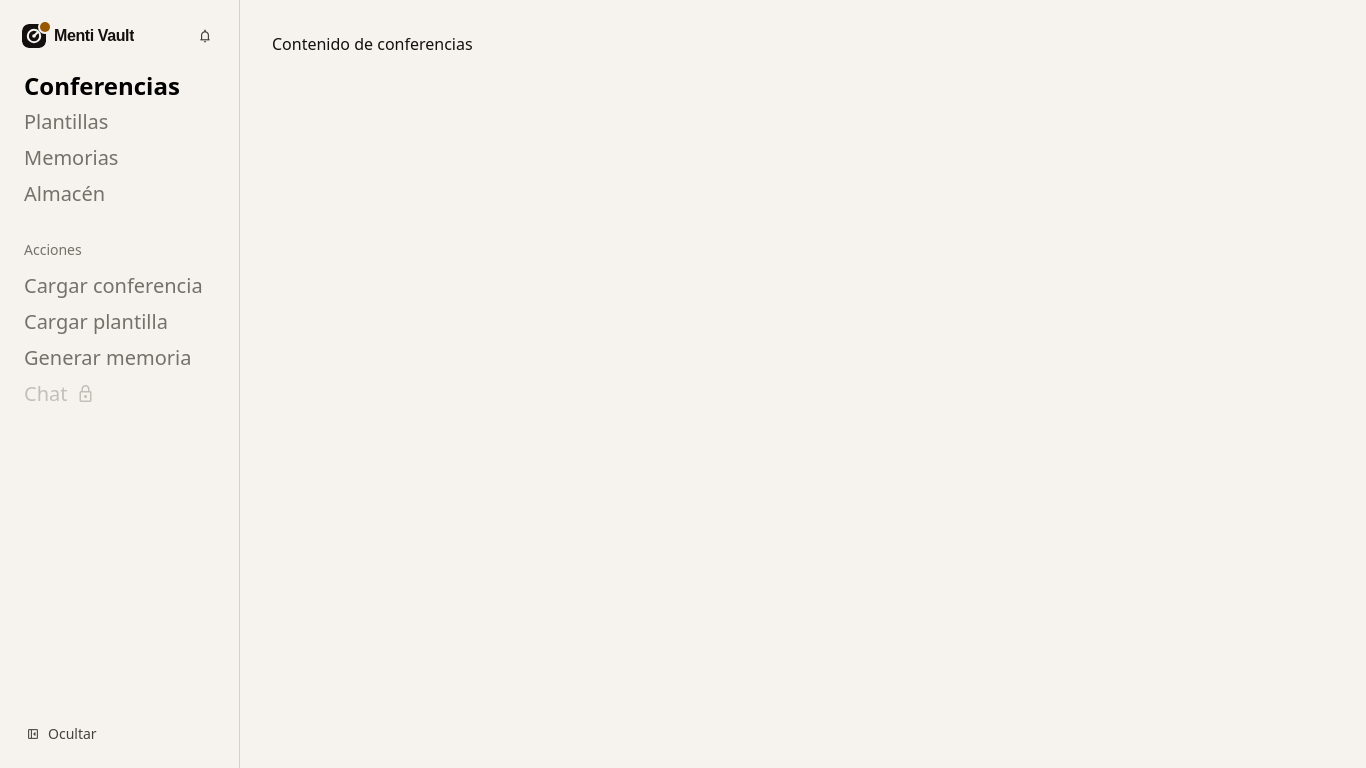
Test case: ShellLayout › la cabecera del dock es el logo, y el menú dice de quién es la cuenta
Click the button with aria-label "cuenta de" at (81, 36), box [16,18,146,54]
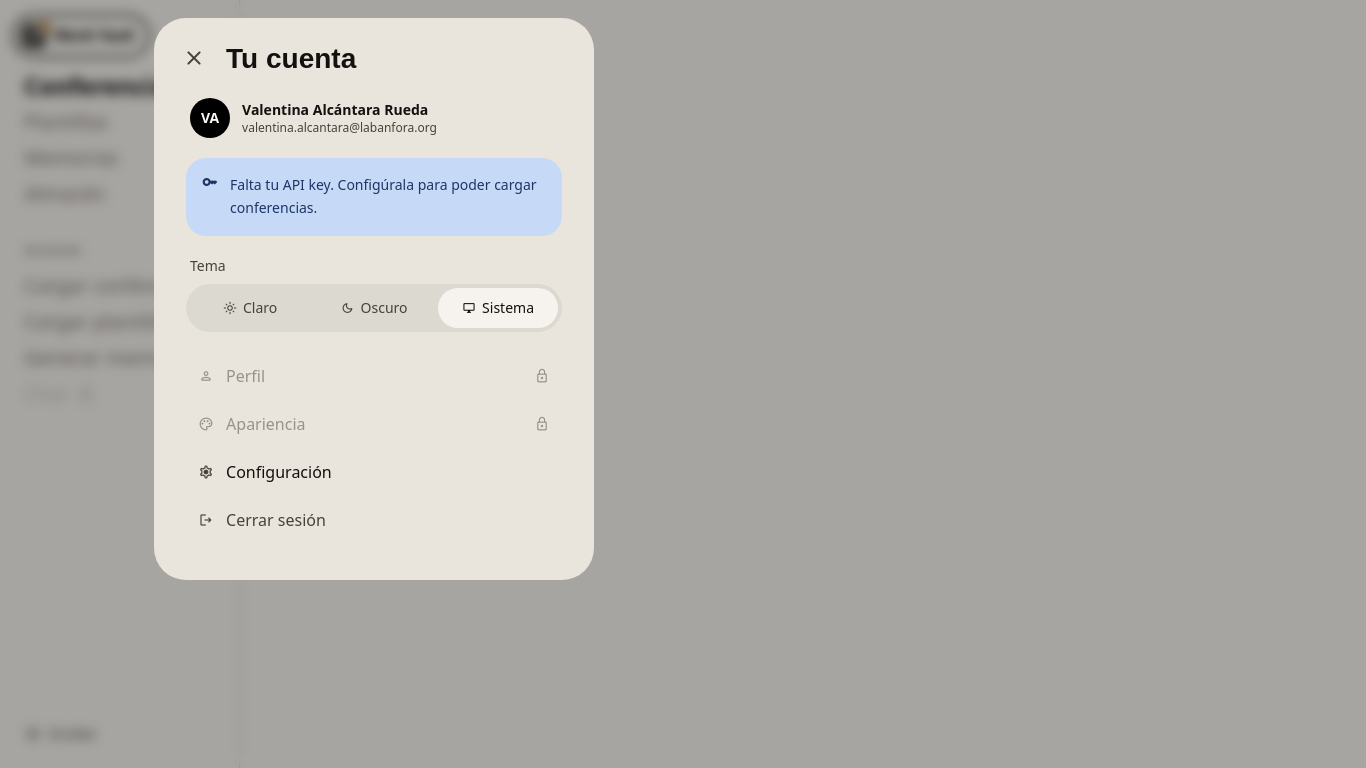
Now the text "Valentina Alcántara Rueda" is shown, box [242,100,437,120]
Now the text "valentina.alcantara@labanfora.org" is shown, box [242,120,437,136]
